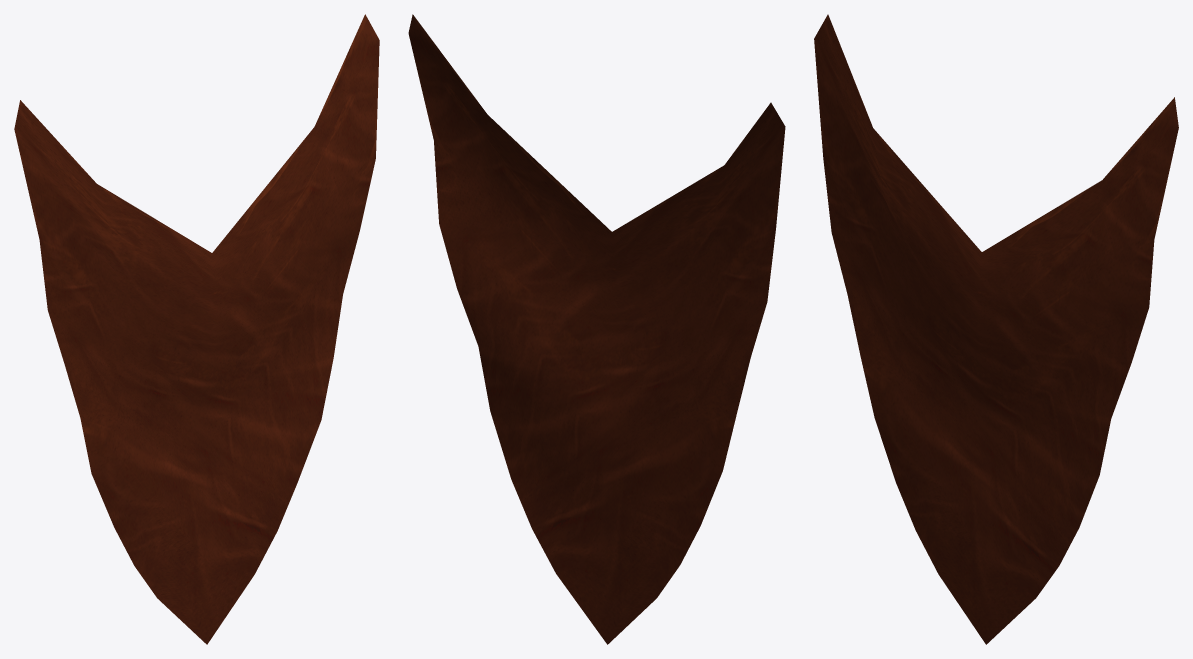
Rendered from Flag.fbx.
3 views of the same model, side by side, from view 1: azimuth 30°, elevation 25°; view 2: azimuth 150°, elevation 25°; view 3: azimuth 330°, elevation 25° (orthographic). The views are drawn at different scales.
Parts seen in each view (by area): view 1: Flag; view 2: Flag; view 3: Flag.
Part boxes in pixels (x1,y1,x2,y2): Flag: (14,14,379,644); Flag: (408,14,785,644); Flag: (814,14,1178,644).
Bounding box in the file's own units: 15.96 × 24.16 × 1.73.
